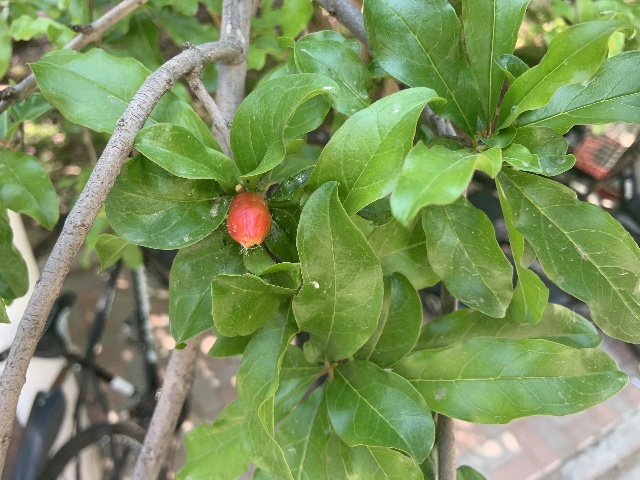bud: (227, 191, 271, 247)
